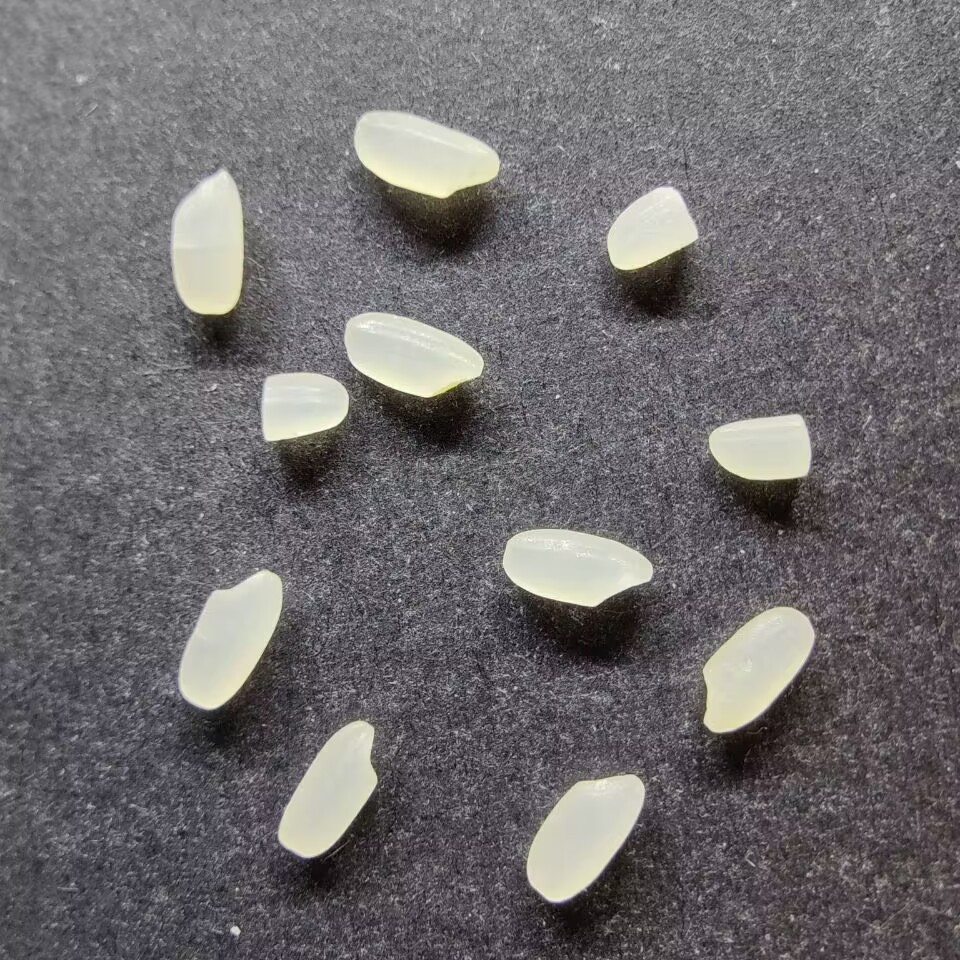broken: (605, 186, 698, 270), (707, 414, 811, 481), (259, 372, 349, 442)
rice: (525, 773, 645, 903), (177, 569, 282, 710), (700, 605, 814, 733), (277, 720, 379, 858), (353, 110, 500, 199), (342, 311, 484, 398), (501, 528, 653, 608), (170, 170, 243, 315)
